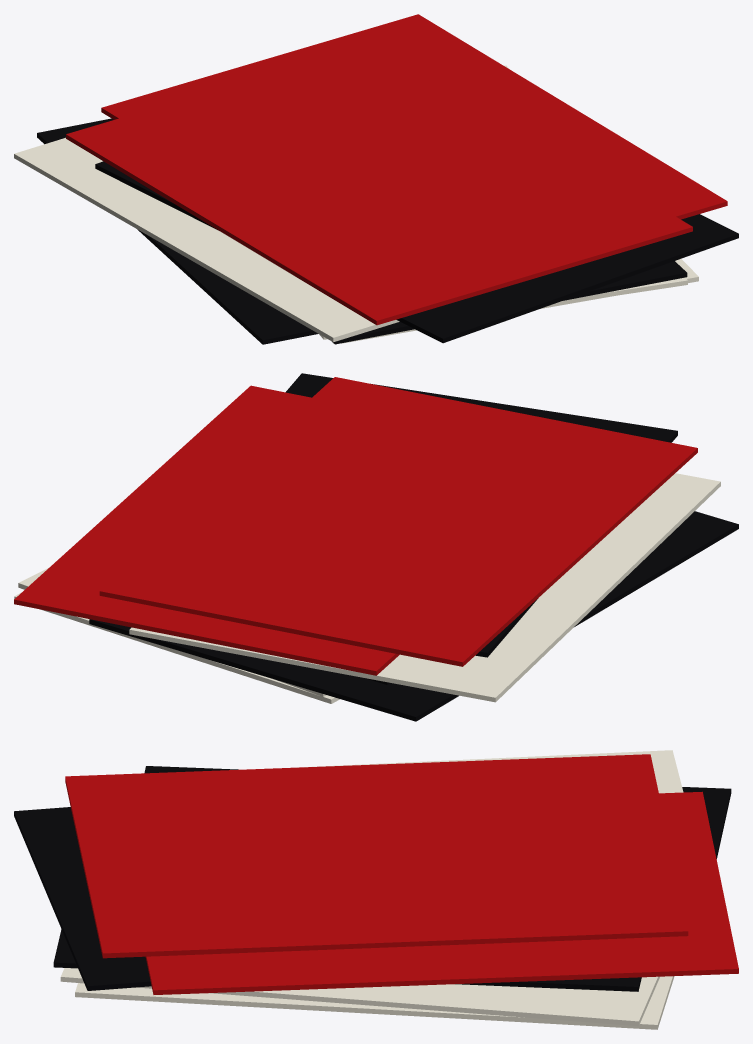
File: Item_OR_Cards_05.glb
3 renders of one model, top to bottom at view 1: azimuth 30°, elevation 25°; view 2: azimuth 150°, elevation 25°; view 3: azimuth 270°, elevation 25°, orthographic. The views are drawn at different scales.
Parts seen in each view (by area): view 1: Item_OR_Cards_05; view 2: Item_OR_Cards_05; view 3: Item_OR_Cards_05.
Part boxes in pixels (left/top/right/bottom): Item_OR_Cards_05: left=14, top=14, right=738, bottom=344; Item_OR_Cards_05: left=14, top=373, right=738, bottom=721; Item_OR_Cards_05: left=14, top=750, right=738, bottom=1029.
Bounding box in the file's own units: 0.0897 × 0.0078 × 0.1086.
